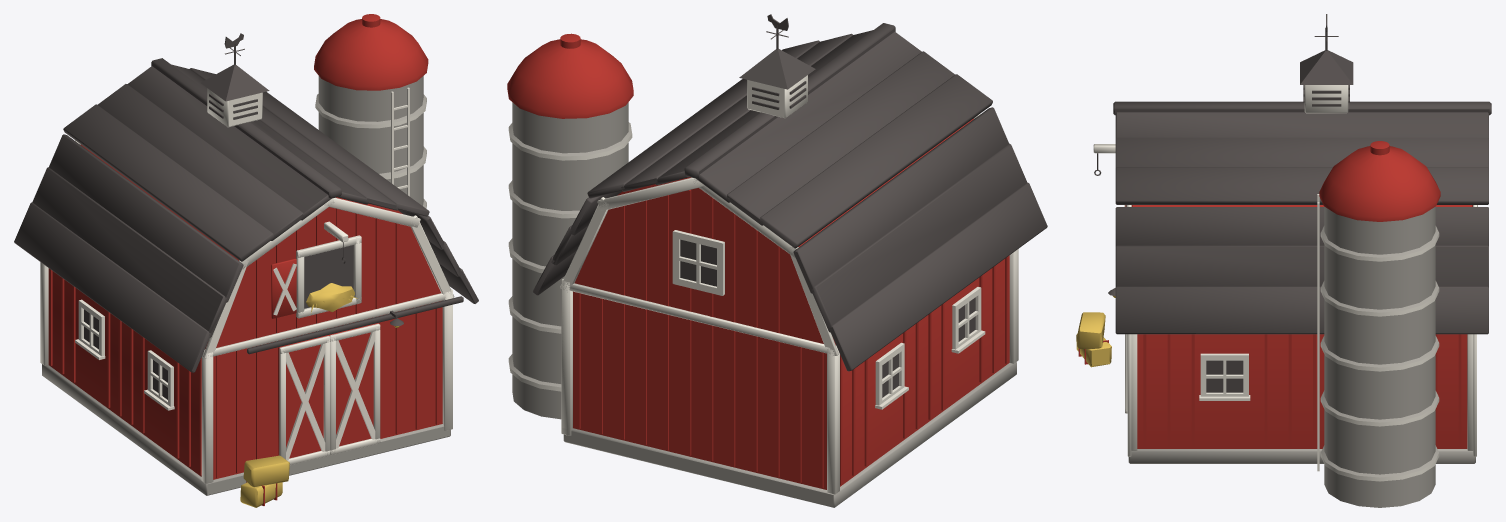
File: barn.glb
3 views of the same model, side by side, from view 1: azimuth 30°, elevation 25°; view 2: azimuth 150°, elevation 25°; view 3: azimuth 270°, elevation 25° (orthographic). The views are drawn at different scales.
Visible parts, largest first — view 1: barn; view 2: barn; view 3: barn.
Boxes of the visible parts, x1,y1,x2,y2 form: barn: (14,14,478,507); barn: (507,14,1047,507); barn: (1076,14,1491,507).
Bounding box in the file's own units: 8.92 × 8.72 × 8.56.
